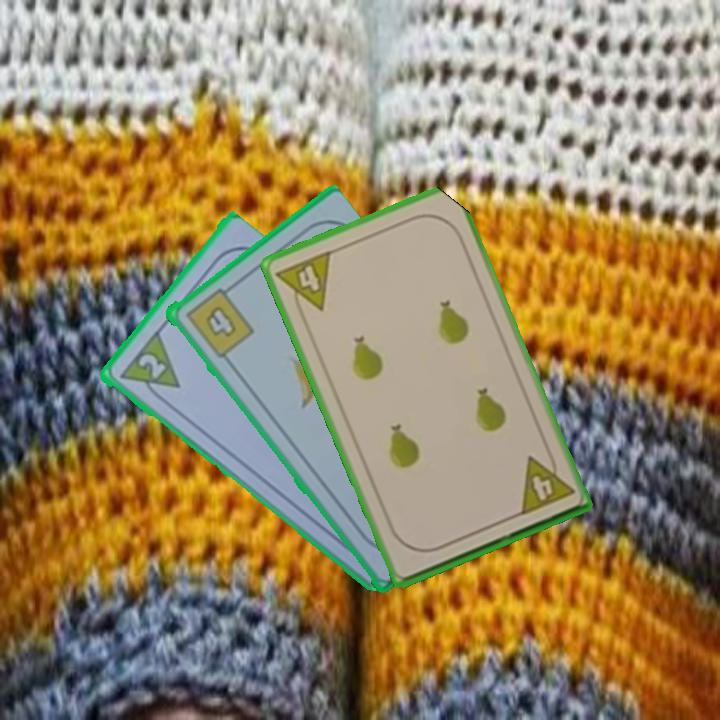2p: (114, 329, 182, 407)
4b: (181, 281, 257, 361)
4p: (272, 246, 334, 321), (515, 446, 577, 519)
